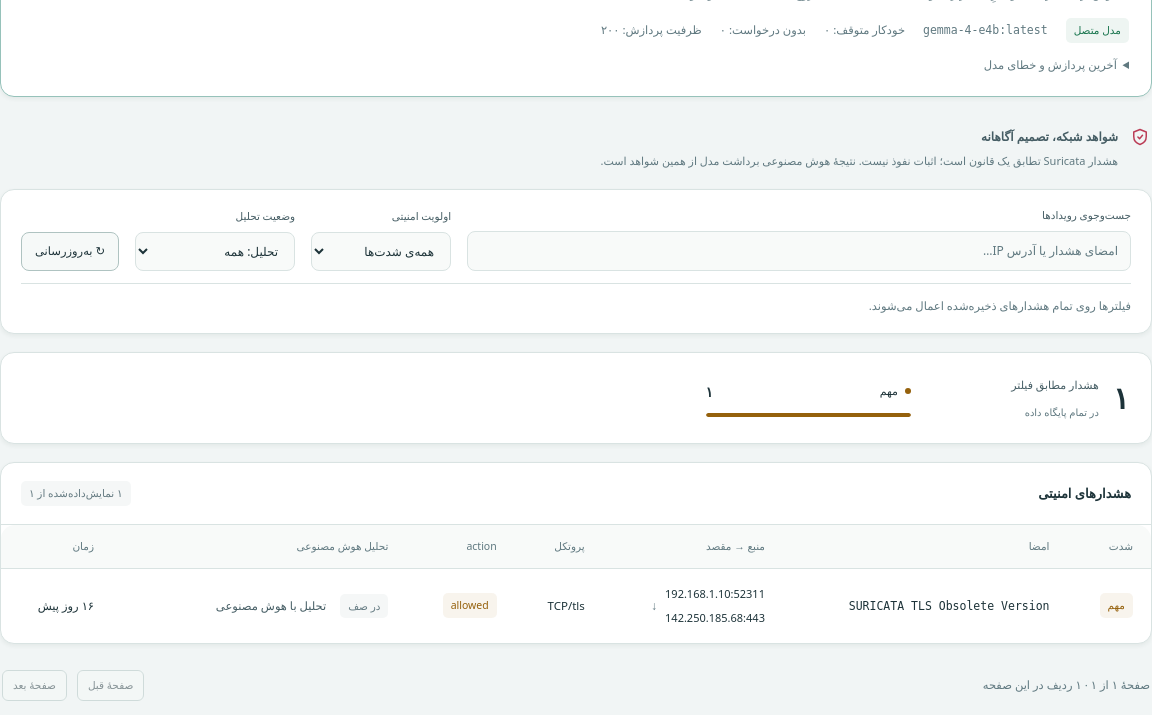
SecurityPage AI analysis › opens existing PENDING job without another Analyze request
(page scrolled)
Step 1. Click the button with aria-label "تحلیل با هوش مصنوعی هشدار 34" → (271, 606), box [202,586,340,625]
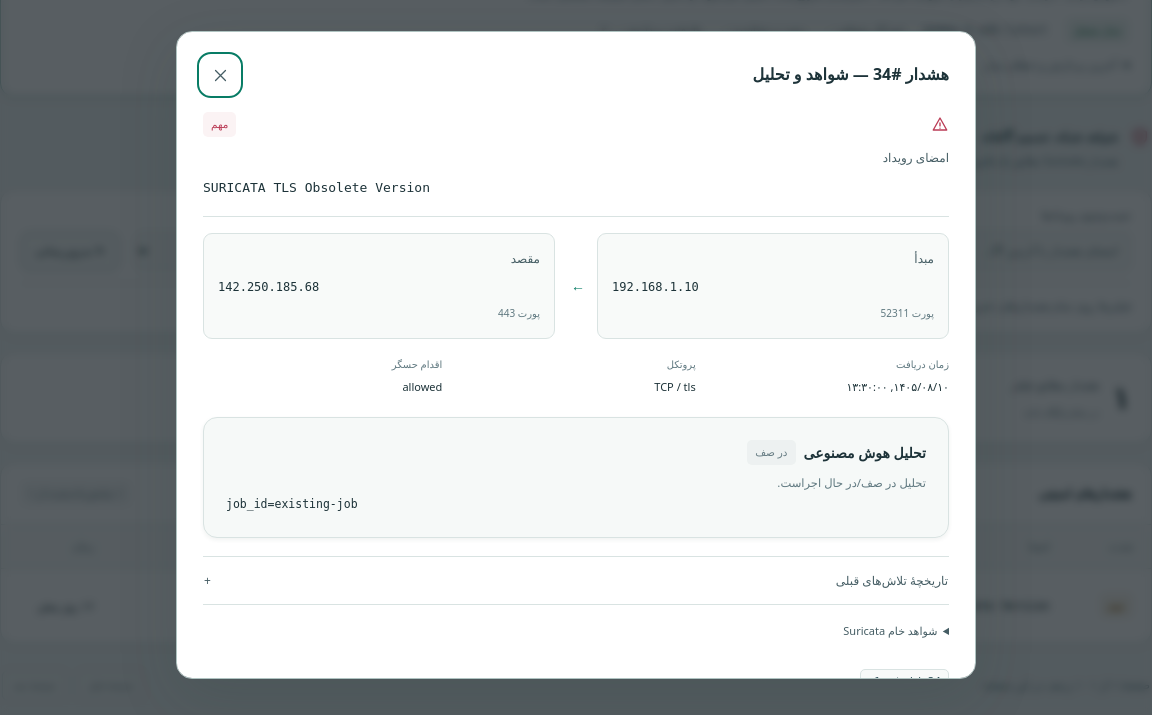
Expected: the text "job_id=existing-job" is shown, [226,497,358,511]
